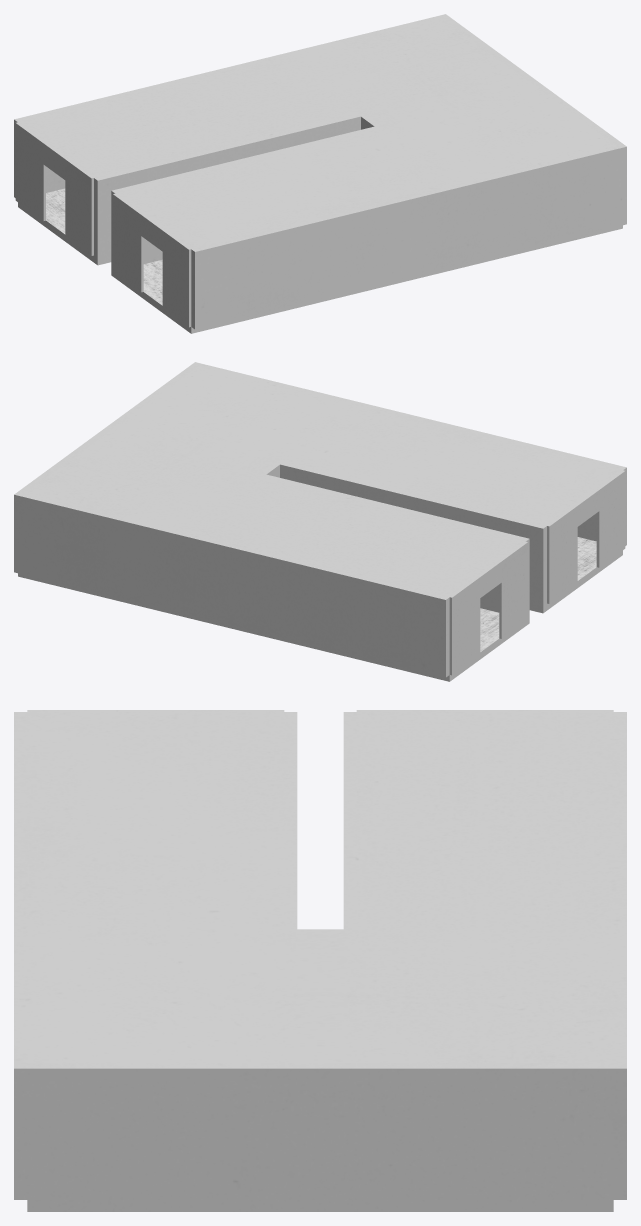
File: CorridoioBlocchi.fbx
3 views of the same model, one above another, from view 1: azimuth 30°, elevation 25°; view 2: azimuth 150°, elevation 25°; view 3: azimuth 270°, elevation 25° (orthographic). The views are drawn at different scales.
Visible parts, largest first — view 1: Soffitto, Pareti; view 2: Soffitto, Pareti; view 3: Soffitto, Pareti.
Boxes of the visible parts, x1=… form: Soffitto: x1=14, y1=14, x2=626, y2=251; Pareti: x1=14, y1=117, x2=626, y2=333; Soffitto: x1=14, y1=362, x2=626, y2=599; Pareti: x1=14, y1=464, x2=626, y2=681; Soffitto: x1=14, y1=710, x2=626, y2=1080; Pareti: x1=14, y1=710, x2=626, y2=1211.
Size of the model in its own units: 1287 by 240 by 930.
